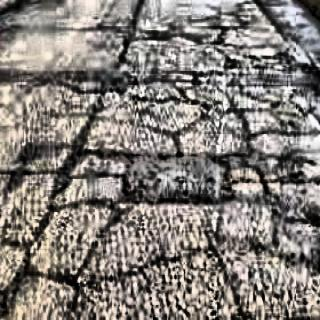alligator-crack: (11, 2, 320, 320)
